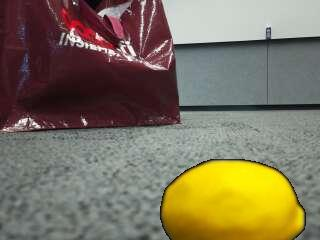lemon: (162, 160, 304, 240)
